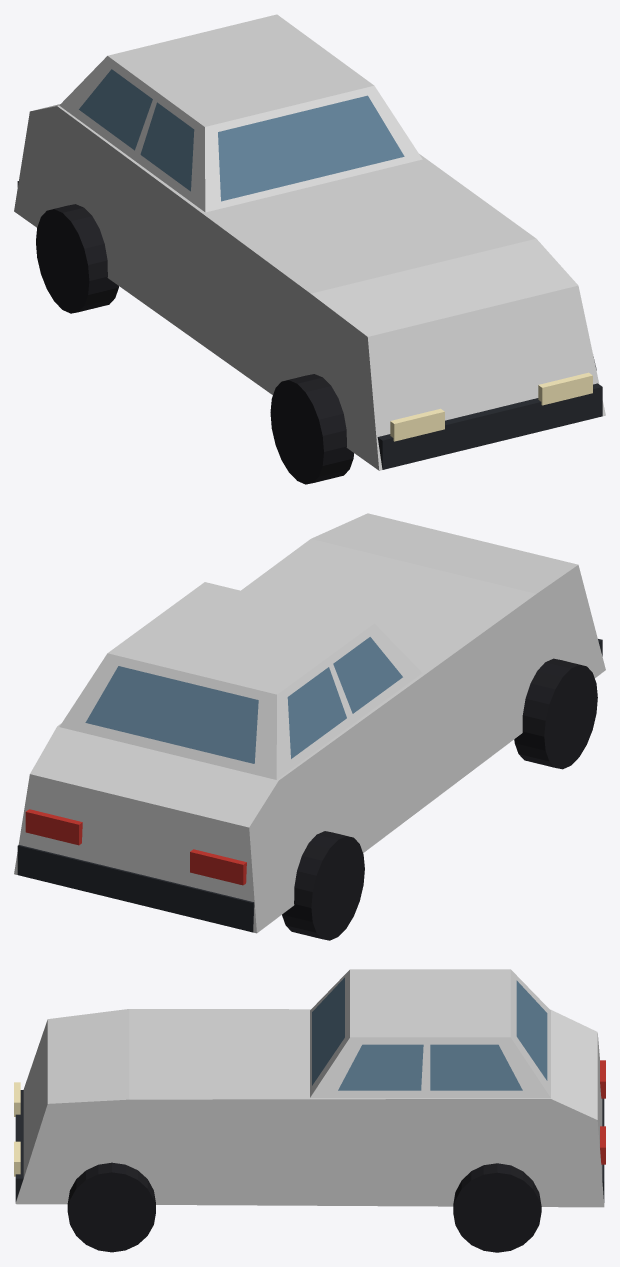
File: crossover.glb
The picture shows the model from 3 angles, top to bottom: view 1: azimuth 30°, elevation 25°; view 2: azimuth 150°, elevation 25°; view 3: azimuth 270°, elevation 25°; orthographic projection. The views are drawn at different scales.
Visible parts, largest first — view 1: body, cabin, glass_screen, wheel_1_L_tyre, bumper_nose, wheel_0_L_tyre, glass_side_0_L, glass_side_1_L, head_L, head_R; view 2: body, cabin, glass_back, bumper_tail, wheel_1_L_tyre, wheel_0_L_tyre, glass_side_0_L, glass_side_1_L, tail_R, tail_L; view 3: body, cabin, wheel_1_R_tyre, wheel_0_R_tyre, glass_side_0_R, glass_side_1_R, glass_screen, glass_back, bumper_nose.
Boxes of the visible parts, x1=… form: body: x1=14, y1=104, x2=605, y2=470; cabin: x1=59, y1=14, x2=422, y2=212; glass_screen: x1=218, y1=95, x2=404, y2=201; wheel_1_L_tyre: x1=270, y1=374, x2=353, y2=484; bumper_nose: x1=377, y1=383, x2=602, y2=469; wheel_0_L_tyre: x1=36, y1=204, x2=118, y2=313; glass_side_0_L: x1=79, y1=69, x2=152, y2=150; glass_side_1_L: x1=140, y1=102, x2=194, y2=191; head_L: x1=390, y1=408, x2=444, y2=441; head_R: x1=538, y1=372, x2=592, y2=405; body: x1=14, y1=513, x2=605, y2=933; cabin: x1=59, y1=582, x2=422, y2=779; glass_back: x1=85, y1=666, x2=258, y2=763; bumper_tail: x1=17, y1=845, x2=254, y2=932; wheel_1_L_tyre: x1=514, y1=658, x2=597, y2=769; wheel_0_L_tyre: x1=282, y1=831, x2=364, y2=940; glass_side_0_L: x1=287, y1=667, x2=346, y2=758; glass_side_1_L: x1=333, y1=637, x2=402, y2=713; tail_R: x1=25, y1=809, x2=82, y2=845; tail_L: x1=190, y1=849, x2=246, y2=885; body: x1=15, y1=1009, x2=604, y2=1207; cabin: x1=310, y1=969, x2=550, y2=1097; wheel_1_R_tyre: x1=67, y1=1162, x2=155, y2=1252; wheel_0_R_tyre: x1=453, y1=1163, x2=541, y2=1252; glass_side_0_R: x1=430, y1=1044, x2=522, y2=1090; glass_side_1_R: x1=338, y1=1044, x2=423, y2=1090; glass_screen: x1=312, y1=977, x2=344, y2=1085; glass_back: x1=516, y1=980, x2=547, y2=1080; bumper_nose: x1=15, y1=1090, x2=23, y2=1201.
Size of the model in its own units: 1.96 by 1.6 by 4.42.
